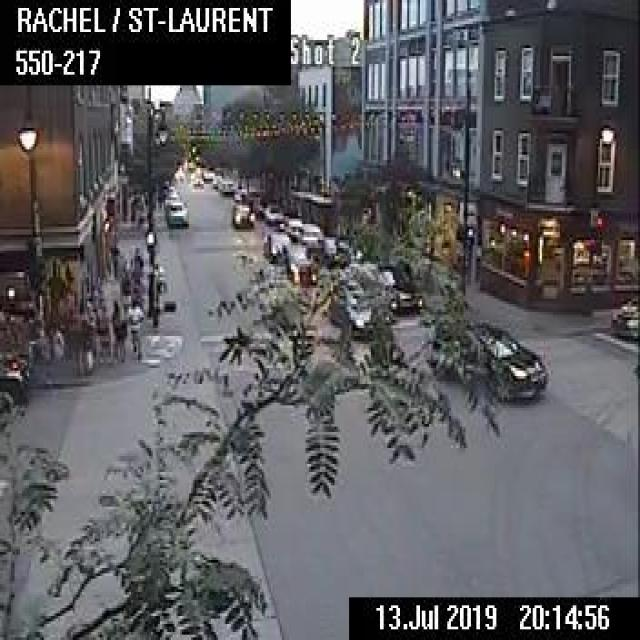pedestrian: (125, 296, 142, 358), (110, 298, 126, 361), (95, 299, 108, 361), (128, 244, 140, 291)
vehicle: (429, 316, 547, 398), (327, 276, 384, 336), (368, 260, 422, 313), (0, 346, 31, 434), (607, 290, 638, 338), (303, 235, 350, 266), (284, 244, 317, 284), (261, 231, 290, 260), (162, 198, 189, 227), (297, 220, 324, 246), (229, 201, 254, 227), (279, 218, 305, 237), (261, 203, 282, 221), (161, 190, 178, 209), (189, 168, 203, 186)
